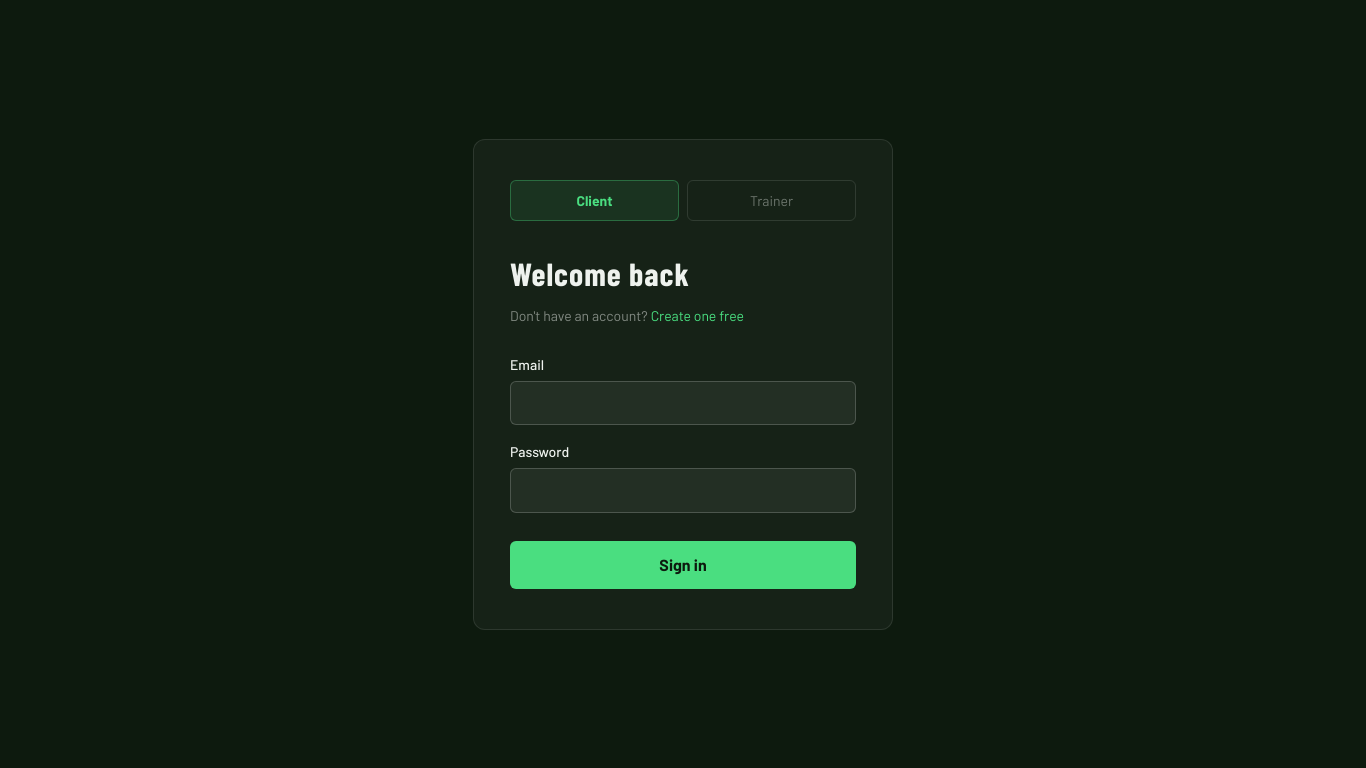
LoginPage › switches tab on click
Expected: the heading "Welcome back" is shown, [510,254,690,292]
Click the button "Trainer".
click(772, 200)  # box [687,180,856,220]
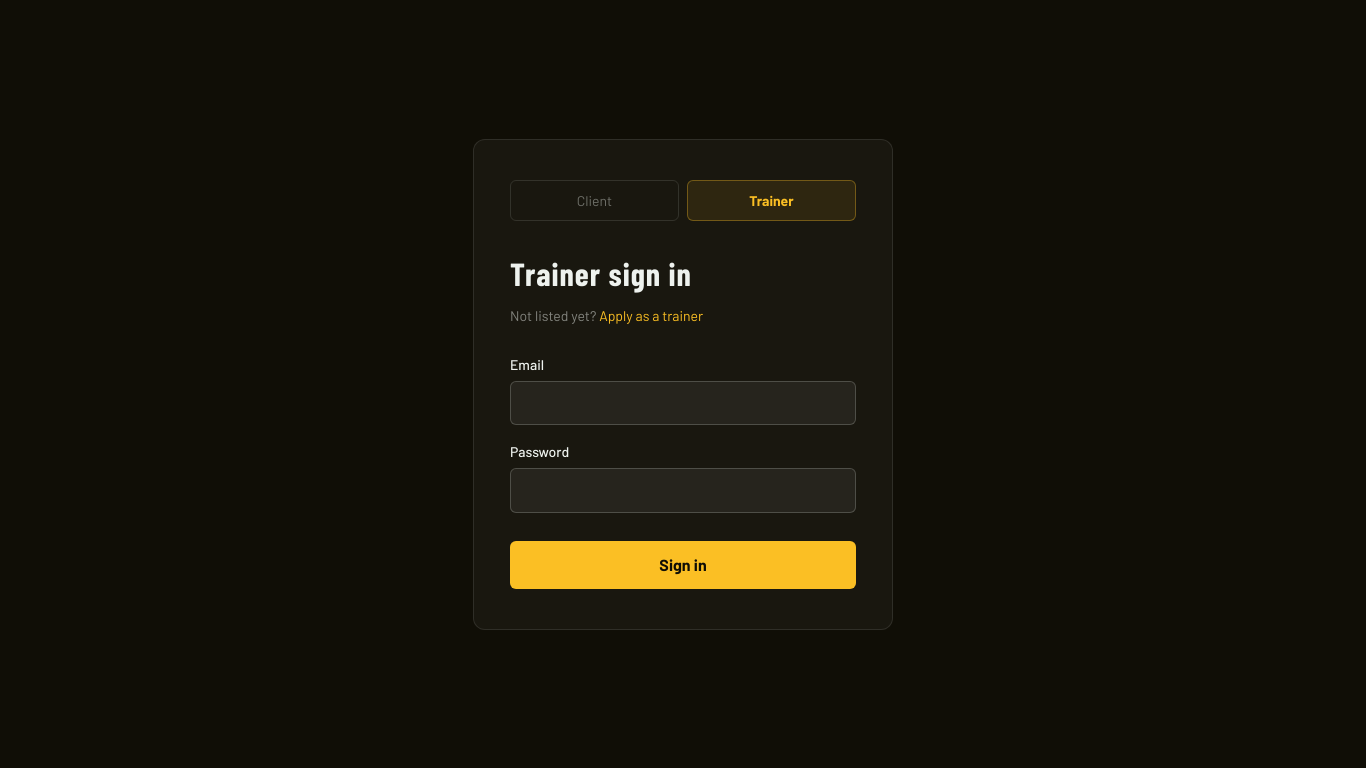
Expected: the heading "Trainer sign in" is shown, [510,254,692,292]
